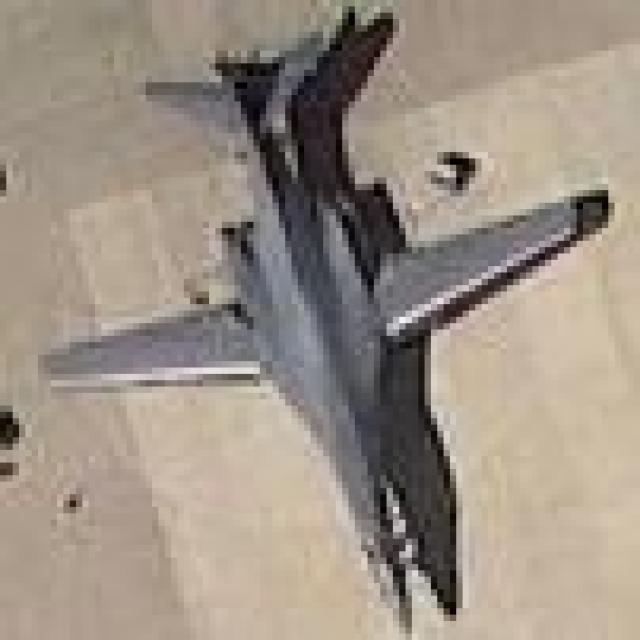B-1_TopDown: (38, 0, 615, 634)
